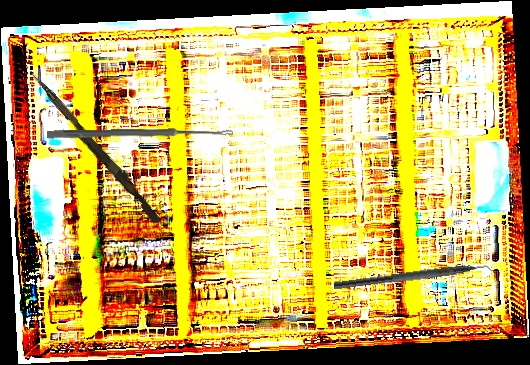Chopper: (333, 258, 501, 302)
Pusher: (24, 70, 165, 225)
Surgical Spoon: (46, 127, 234, 140)
